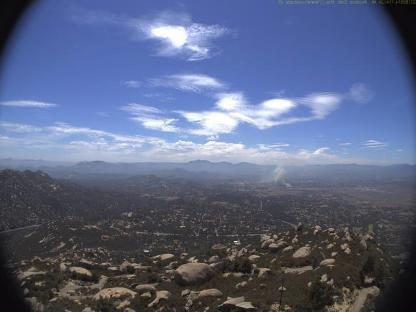smoke: (258, 160, 298, 192)
